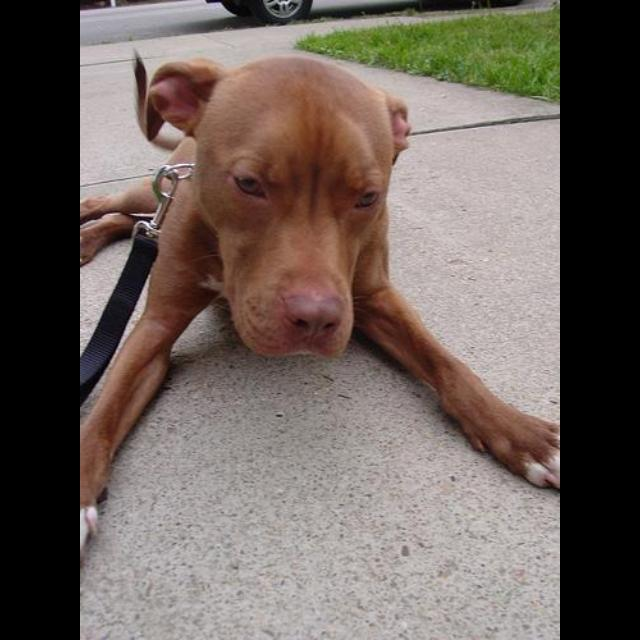amstaff: (81, 49, 559, 586)
